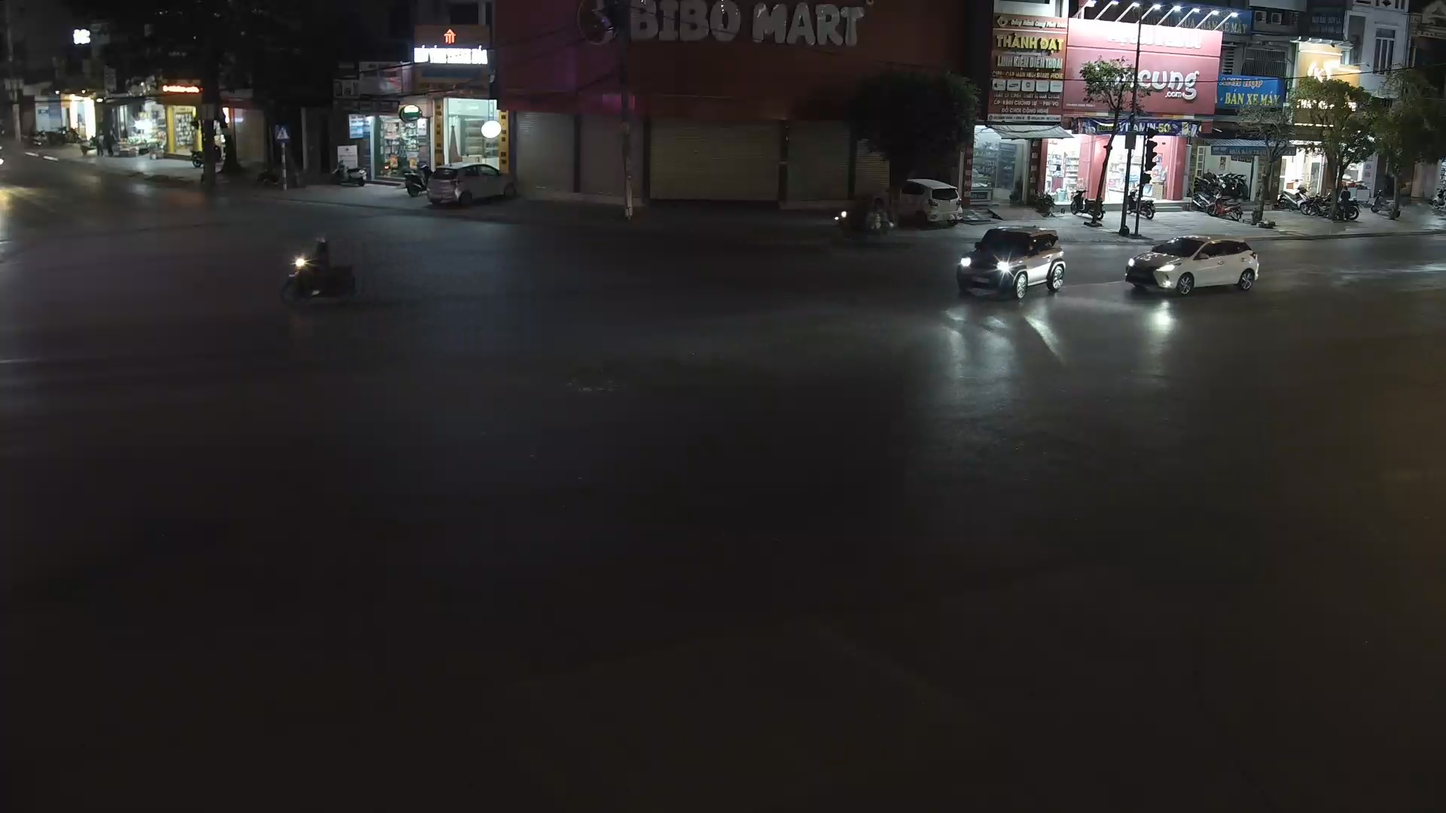car: (1123, 233, 1261, 299), (955, 222, 1067, 302)
motorbike: (277, 234, 360, 310)
